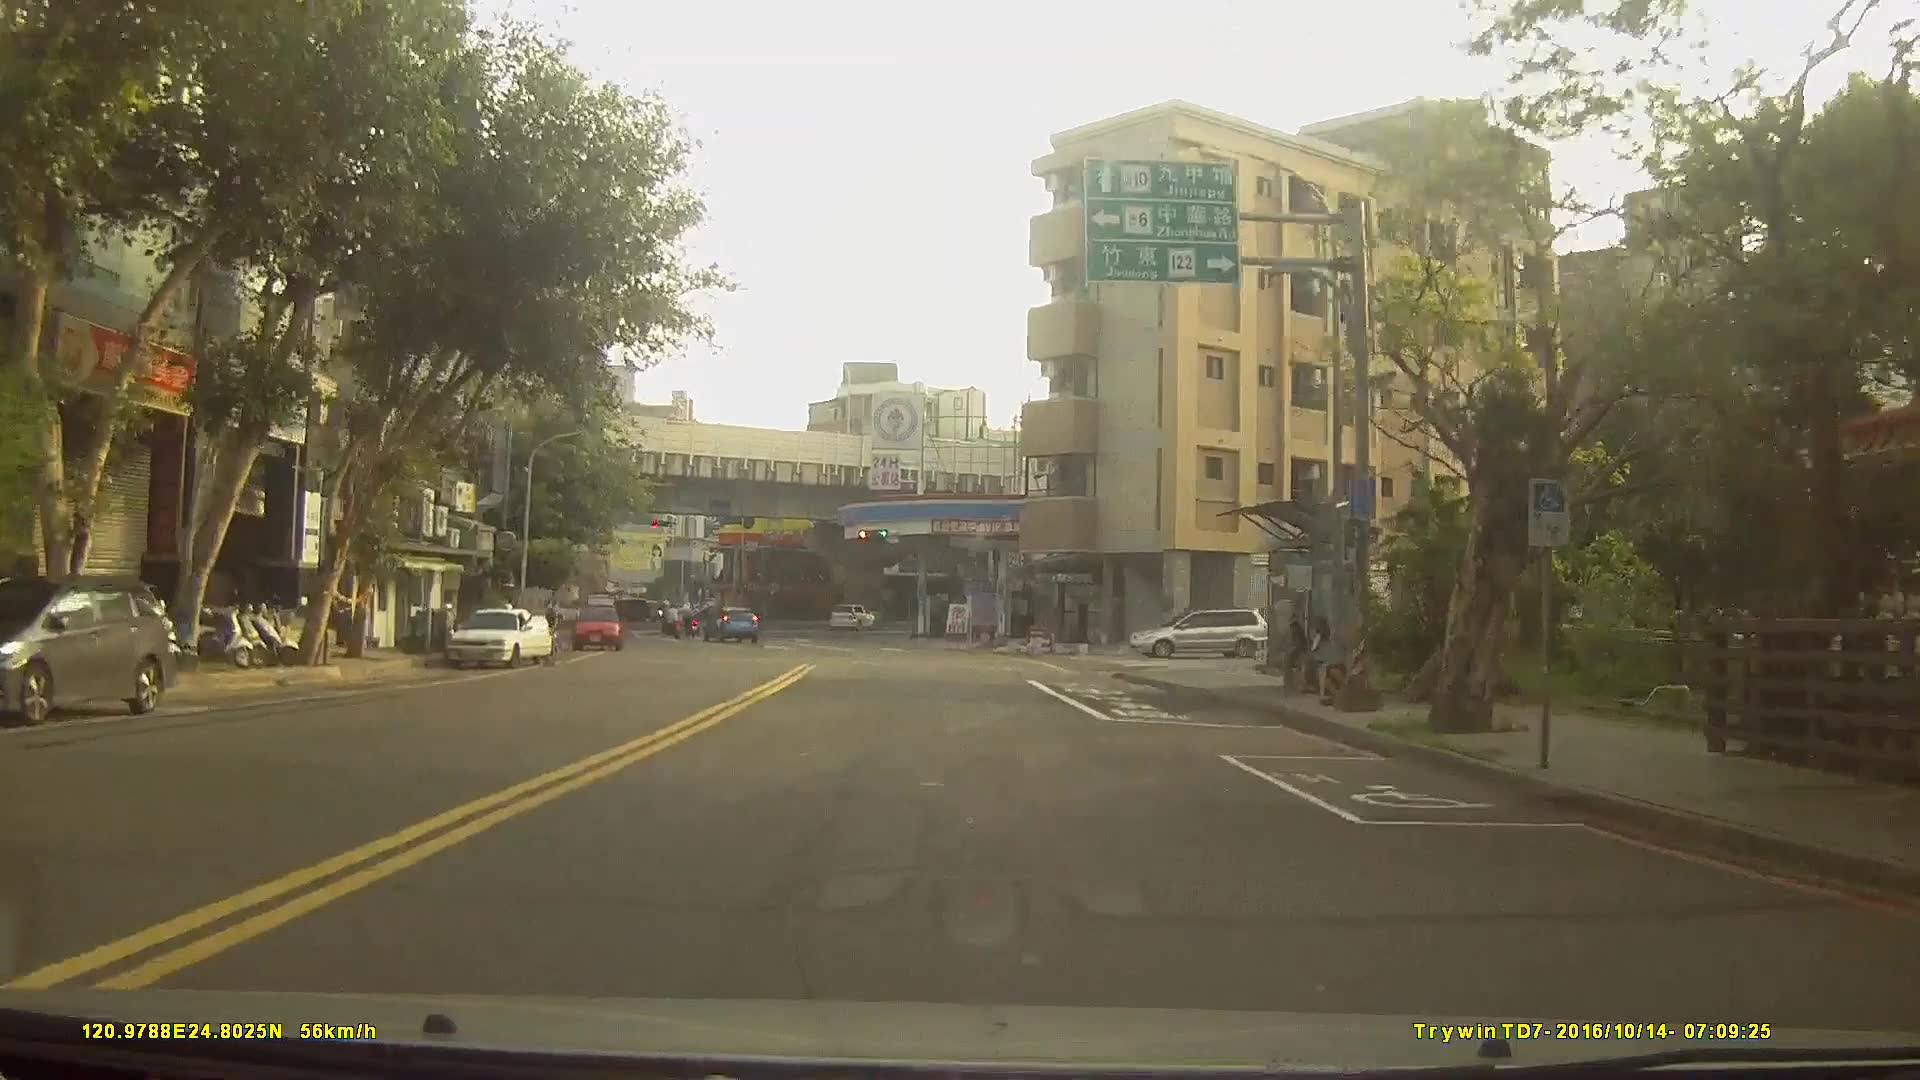pedestrian: (1305, 614, 1336, 707)
rider: (659, 602, 682, 641)
vehicle: (0, 571, 180, 726), (1129, 605, 1268, 658), (443, 606, 554, 669), (574, 603, 624, 653), (699, 603, 758, 643), (830, 603, 876, 631)
